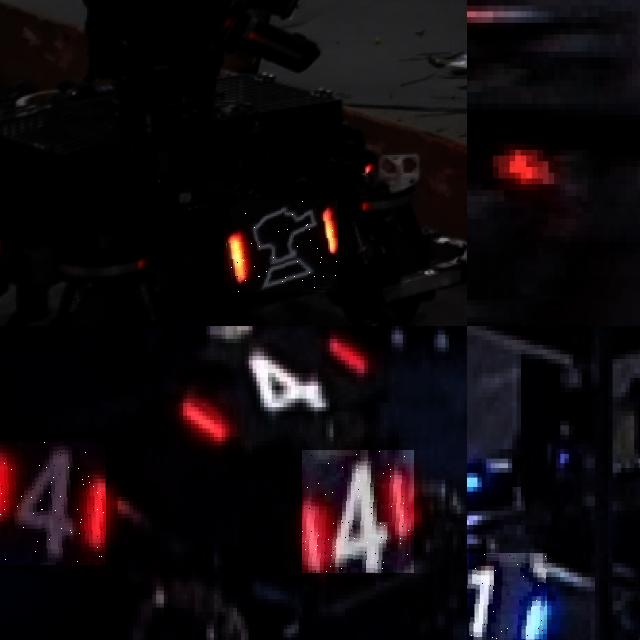B1: (467, 553, 547, 640)
R4: (302, 450, 414, 573), (0, 441, 106, 564)
Rs: (224, 200, 338, 292)
